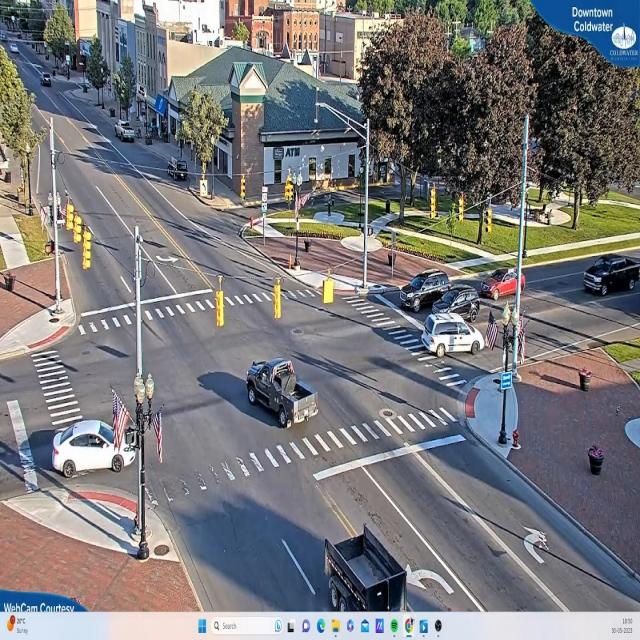car: (30, 419, 130, 479), (246, 356, 320, 428), (425, 318, 485, 358), (584, 256, 638, 298), (400, 272, 455, 313), (479, 269, 527, 301), (117, 122, 137, 144)
